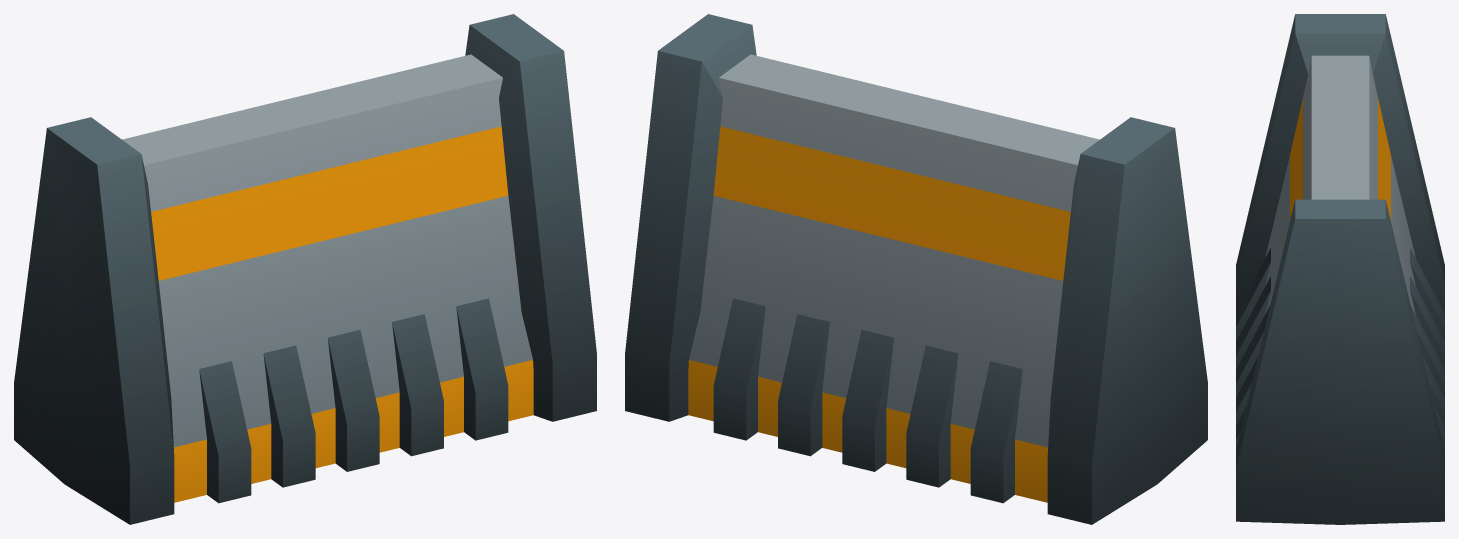
The model's file is Barriaer_003.fbx.
3 views of the same model, side by side, from view 1: azimuth 30°, elevation 25°; view 2: azimuth 150°, elevation 25°; view 3: azimuth 270°, elevation 25° (orthographic). The views are drawn at different scales.
Parts seen in each view (by area): view 1: Barriaer_003; view 2: Barriaer_003; view 3: Barriaer_003.
Boxes of the visible parts, x1,y1,x2,y2 form: Barriaer_003: [14, 14, 596, 524]; Barriaer_003: [625, 14, 1207, 524]; Barriaer_003: [1236, 14, 1444, 524].
Bounding box in the file's own units: 120 × 50 × 80.
